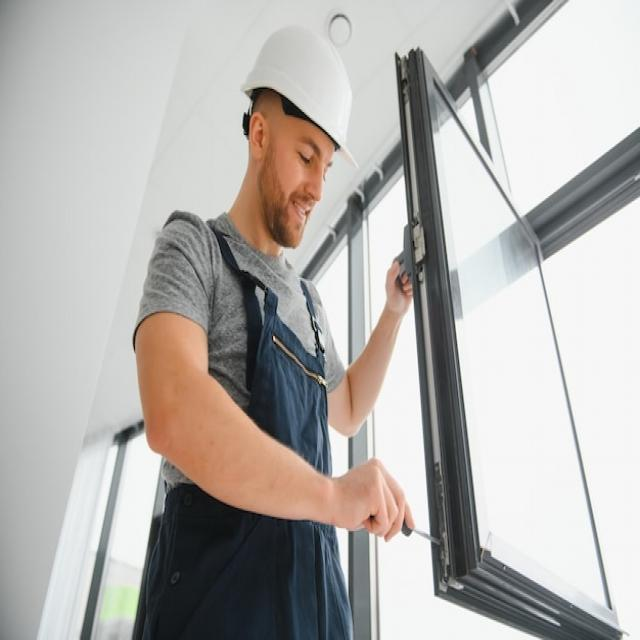screwdriver: (354, 498, 447, 552)
